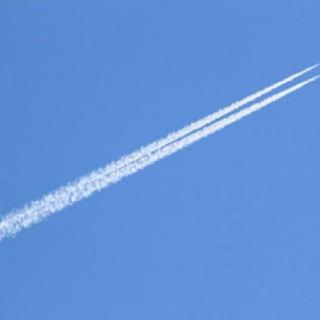Contrails: (0, 0, 320, 252)
